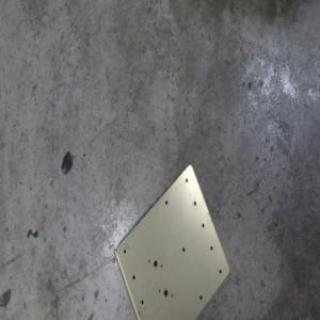MetalSheettrack_idkeyframe: (112, 160, 230, 319)
